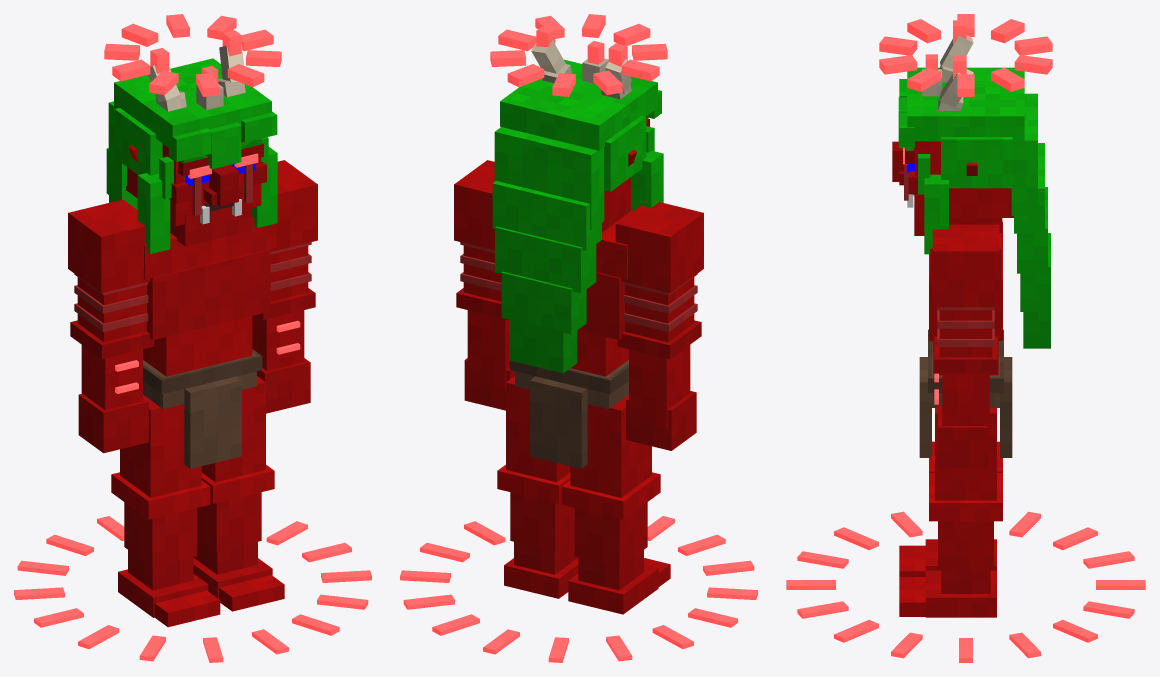
The model's file is kijin_s0_evo3.glb.
The picture shows the model from 3 angles, left to right: view 1: azimuth 30°, elevation 25°; view 2: azimuth 150°, elevation 25°; view 3: azimuth 270°, elevation 25°; orthographic projection.
Visible parts, largest first — view 1: Head, Torso, ArmR, LegR, LegL, ArmL, Root; view 2: Head, ArmR, LegR, Torso, LegL, ArmL, Root; view 3: Head, ArmL, LegL, Root, Torso, LegR.
Boxes of the visible parts, x1,y1,x2,y2 form: Head: [104, 14, 281, 254]; Torso: [143, 218, 276, 468]; ArmR: [68, 199, 154, 453]; LegR: [111, 395, 220, 627]; LegL: [193, 376, 284, 611]; ArmL: [252, 160, 317, 413]; Root: [14, 516, 371, 662]; Head: [490, 14, 667, 373]; ArmR: [615, 202, 703, 450]; LegR: [561, 395, 670, 614]; Torso: [501, 212, 630, 468]; LegL: [497, 376, 578, 598]; ArmL: [454, 160, 514, 410]; Root: [400, 516, 757, 662]; Head: [879, 14, 1052, 348]; ArmL: [932, 224, 999, 468]; LegL: [899, 408, 1002, 617]; Root: [786, 511, 1145, 662]; Torso: [919, 221, 1012, 457]; LegR: [899, 441, 1002, 576].
Size of the model in its own units: 1.16 by 1.95 by 1.16.
Materials: 27 (27 with a texture image).
